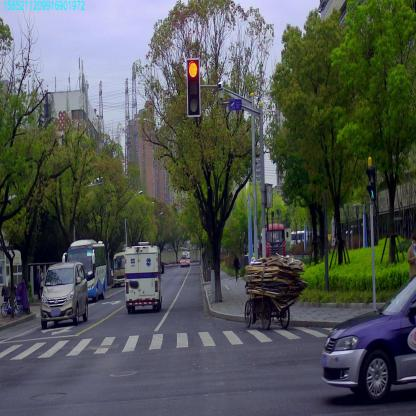traffic-light: (187, 58, 200, 116)
